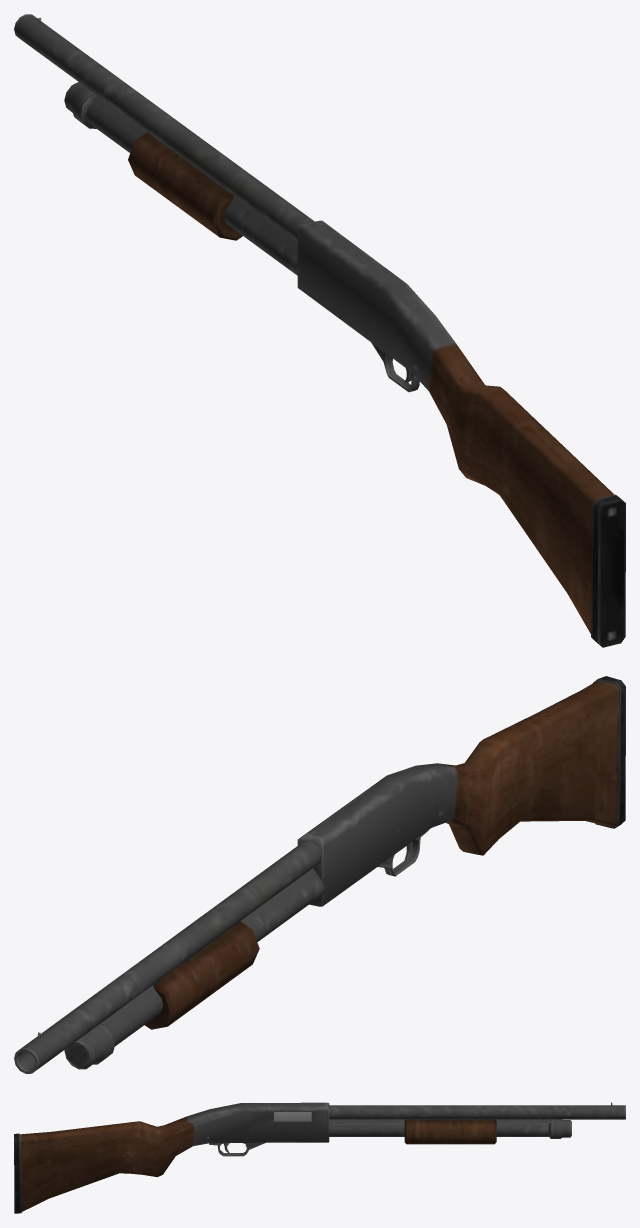
Rendered from shotgun_lo.glb.
The picture shows the model from 3 angles, top to bottom: view 1: azimuth 30°, elevation 25°; view 2: azimuth 150°, elevation 25°; view 3: azimuth 270°, elevation 25°; orthographic projection. The views are drawn at different scales.
Visible parts, largest first — view 1: Shotgun, Fore_Stock; view 2: Shotgun, Fore_Stock; view 3: Shotgun, Fore_Stock, Ejection_Port.
Boxes of the visible parts, x1,y1,x2,y2 form: Shotgun: (14, 14, 625, 647); Fore_Stock: (128, 132, 242, 240); Shotgun: (14, 676, 625, 1073); Fore_Stock: (144, 921, 259, 1029); Shotgun: (14, 1102, 625, 1213); Fore_Stock: (404, 1119, 496, 1144); Ejection_Port: (274, 1112, 311, 1121).
Bounding box in the file's own units: 0.0562 × 0.2395 × 1.22.
1 material, 1 textured.
